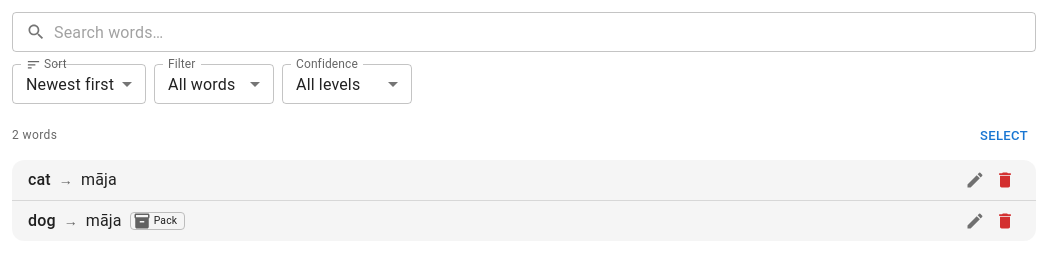
it: WordList › should filter by word source (user-added vs pack)
# Change word filter to 'user-added'
Step 1. Click the dropdown named "Filter" → {"x": 202, "y": 84}, box [168,74,235,94]
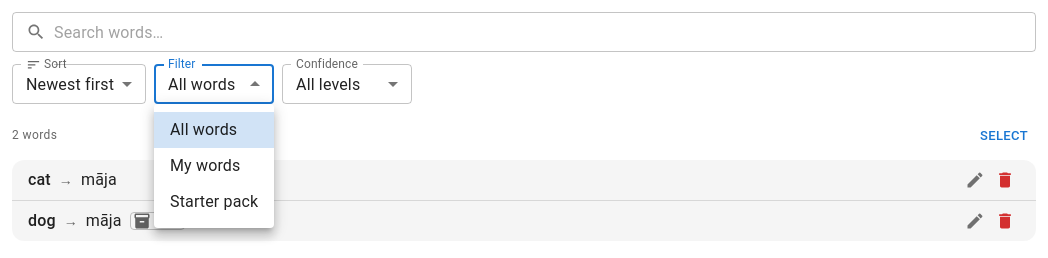
Step 2. Click the option "My words" → {"x": 205, "y": 166}, box [170,156,240,175]
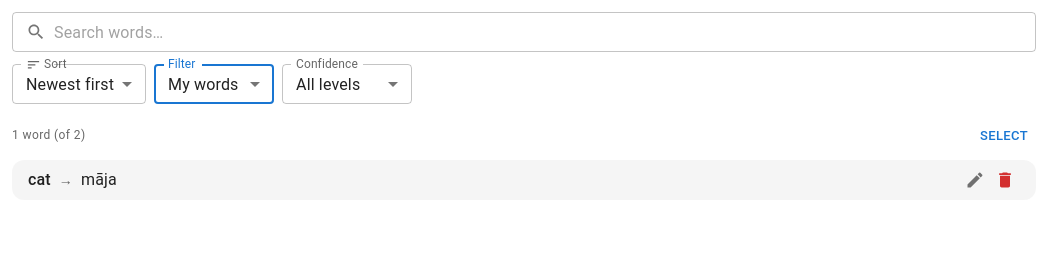
Expected: the text "cat" is shown, [28,168,51,192]
Now the text "dog" is gone
